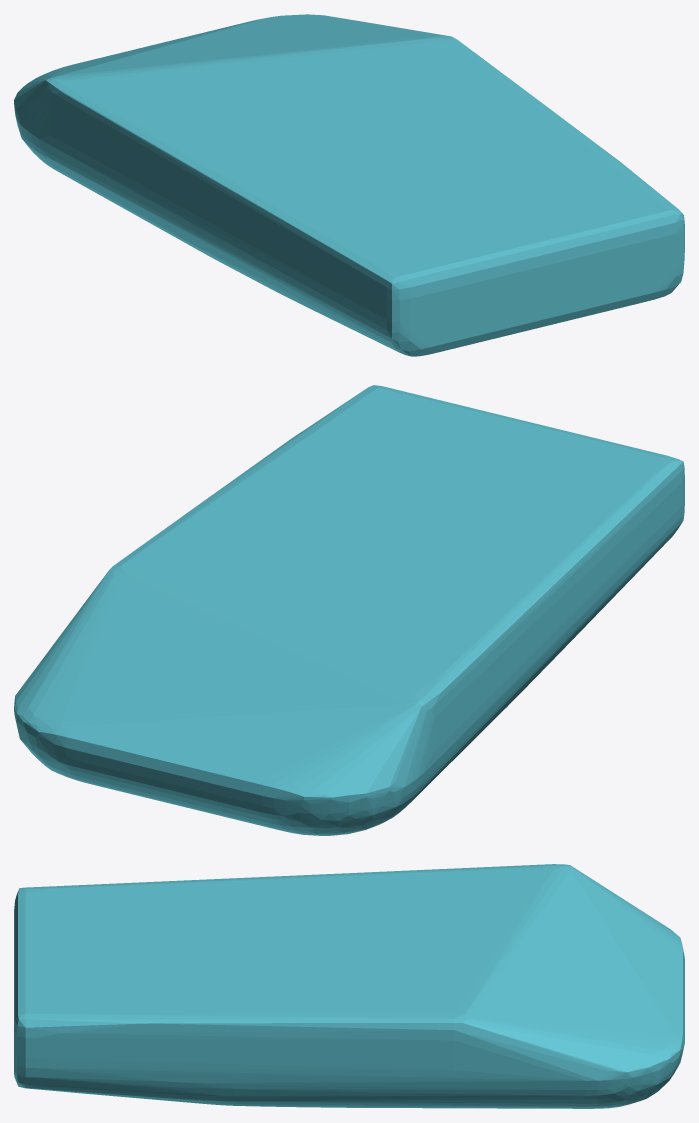
The model's file is left_knee_link_part_2.obj.
3 views of the same model, one above another, from view 1: azimuth 30°, elevation 25°; view 2: azimuth 150°, elevation 25°; view 3: azimuth 270°, elevation 25° (orthographic). The views are drawn at different scales.
Bounding box in the file's own units: 0.0675 × 0.0203 × 0.1175.
